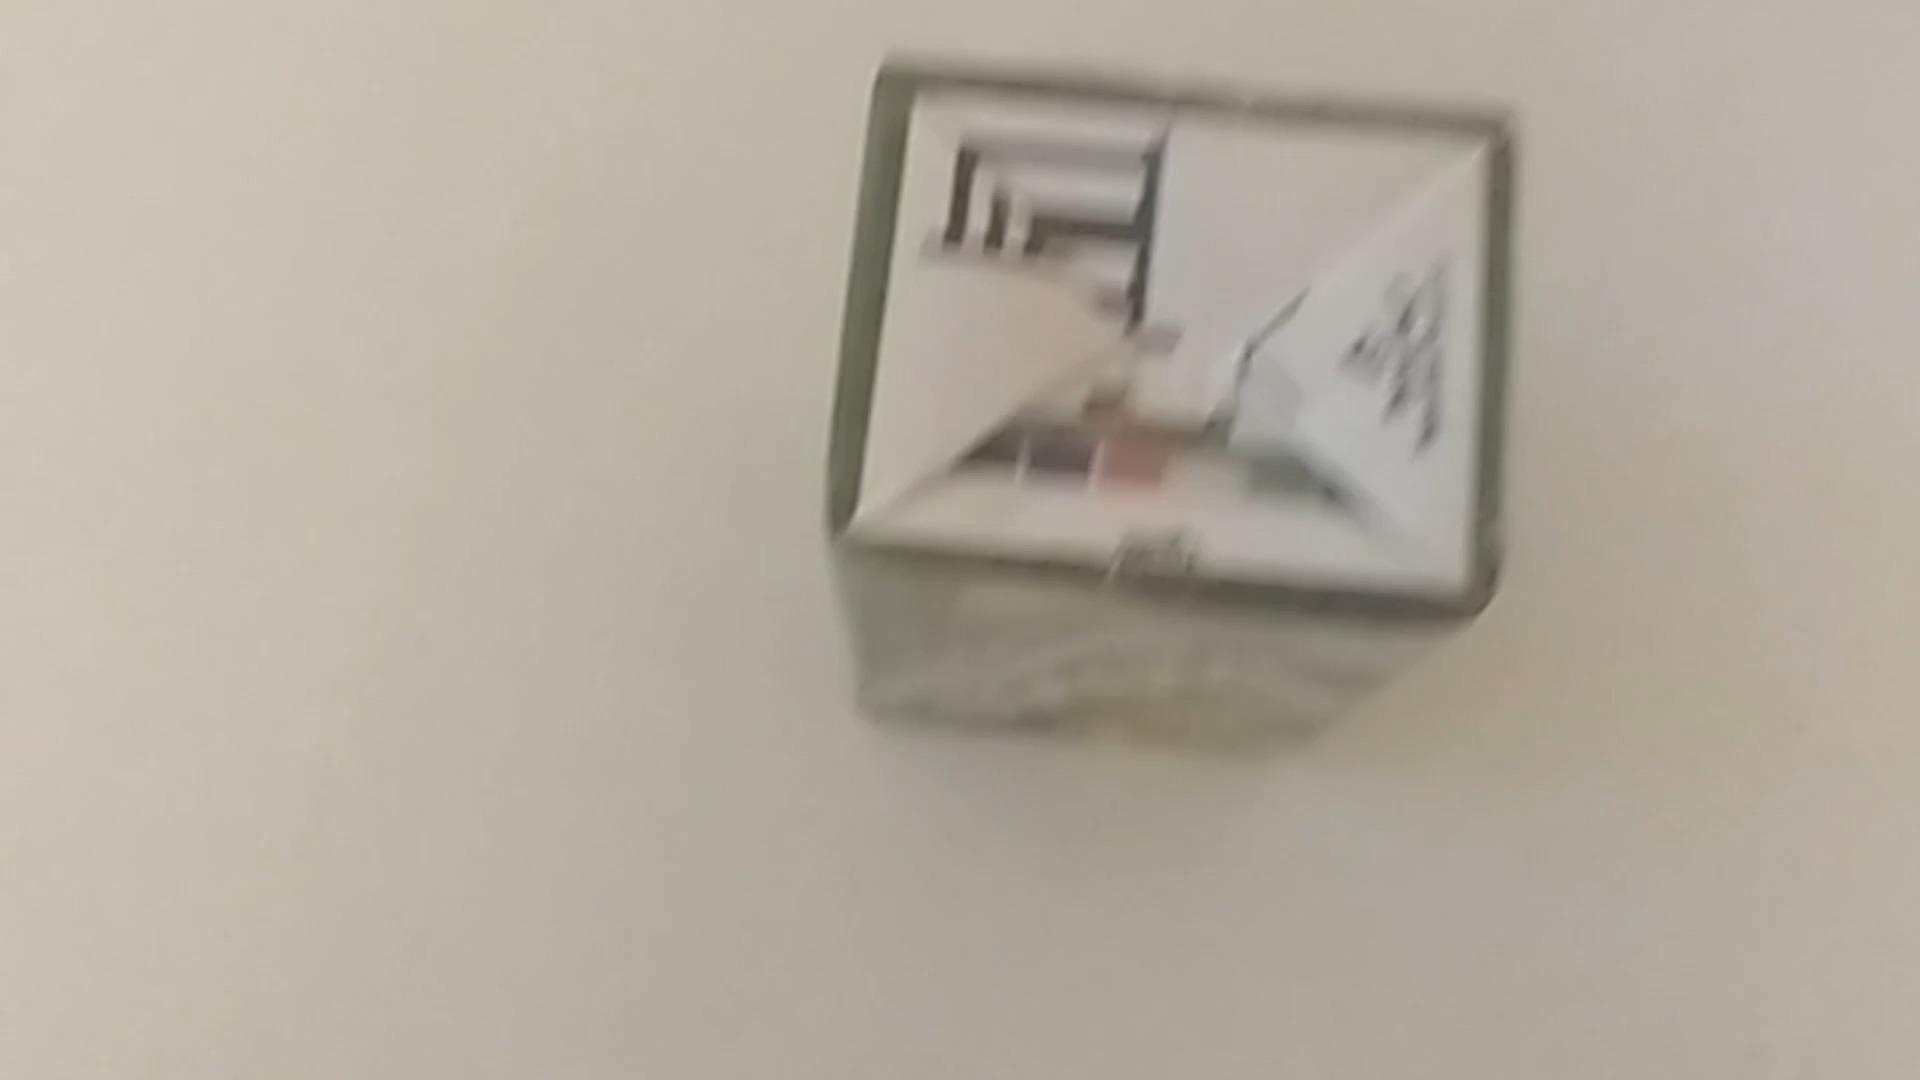coco: (825, 45, 1530, 768)
